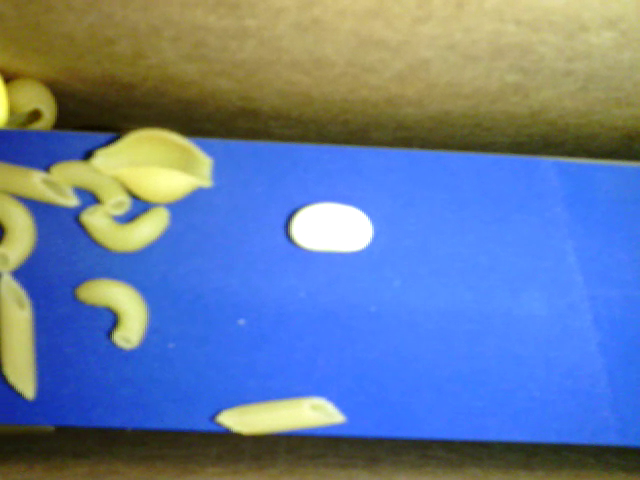elbow: (73, 278, 148, 351), (49, 160, 132, 214), (81, 206, 171, 254), (1, 194, 39, 272)
penne: (215, 396, 348, 437), (2, 273, 36, 403), (1, 162, 78, 207)
shell: (90, 125, 216, 202), (4, 73, 56, 131)
